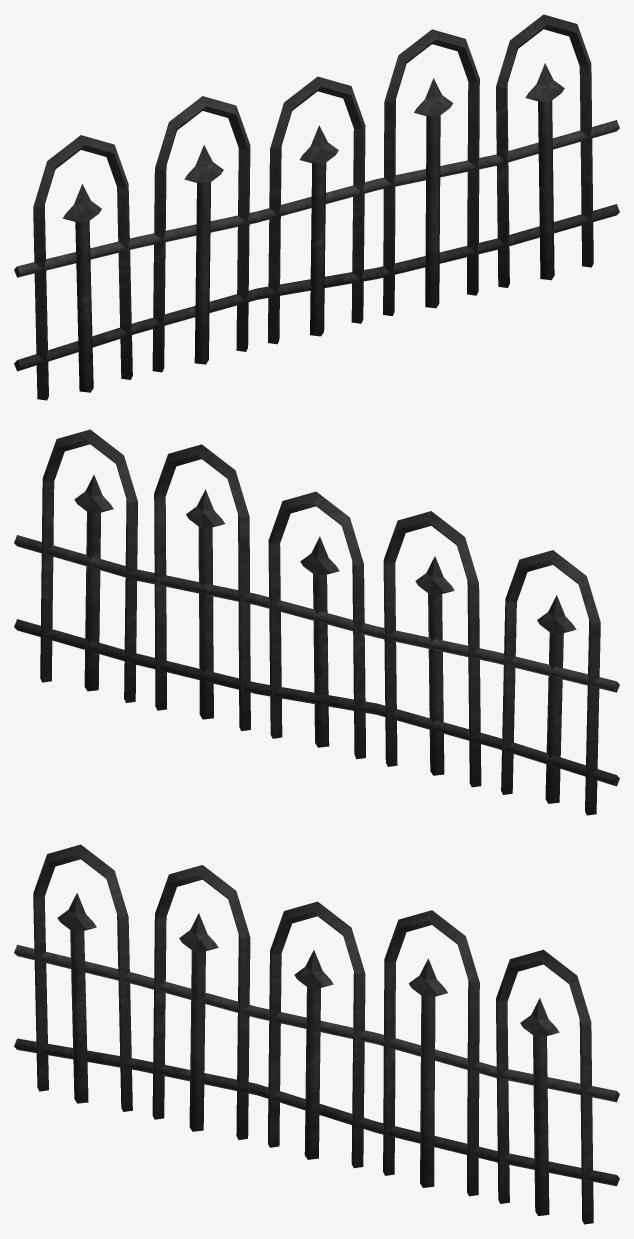
The model's file is GraveFence.fbx.
3 views of the same model, one above another, from view 1: azimuth 30°, elevation 25°; view 2: azimuth 150°, elevation 25°; view 3: azimuth 330°, elevation 25° (orthographic).
Parts seen in each view (by area): view 1: Fence; view 2: Fence; view 3: Fence.
Boxes of the visible parts, <box> form: Fence: <box>14,14,619,400</box>; Fence: <box>14,429,619,815</box>; Fence: <box>14,844,619,1224</box>.
Bounding box in the file's own units: 281 × 123 × 8.5.
